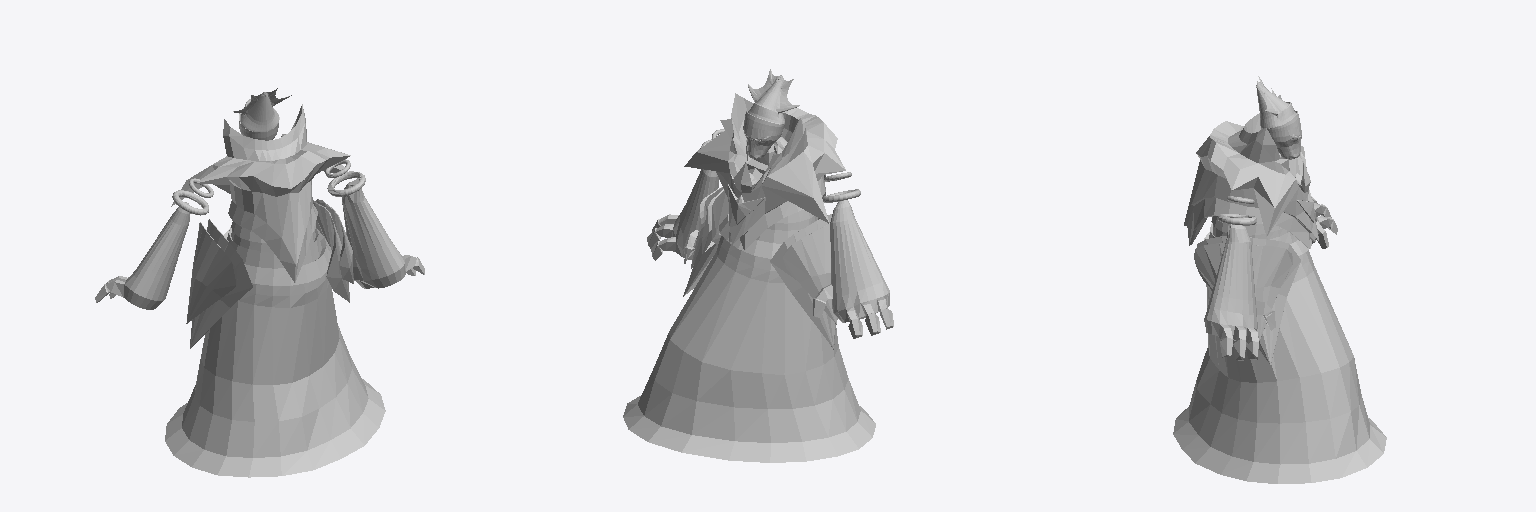
File: RATH_IDLE_24FPS.0058.obj
The picture shows the model from 3 angles: view 1: azimuth 30°, elevation 25°; view 2: azimuth 150°, elevation 25°; view 3: azimuth 270°, elevation 25°; orthographic projection.
Parts seen in each view (by area): view 1: pasted__pasted__pTorus3; view 2: pasted__pasted__pTorus3; view 3: pasted__pasted__pTorus3.
Boxes of the visible parts, x1,y1,x2,y2 form: pasted__pasted__pTorus3: [95, 88, 424, 477]; pasted__pasted__pTorus3: [623, 69, 893, 462]; pasted__pasted__pTorus3: [1173, 76, 1386, 483].
Bounding box in the file's own units: 147 × 174 × 95.41.